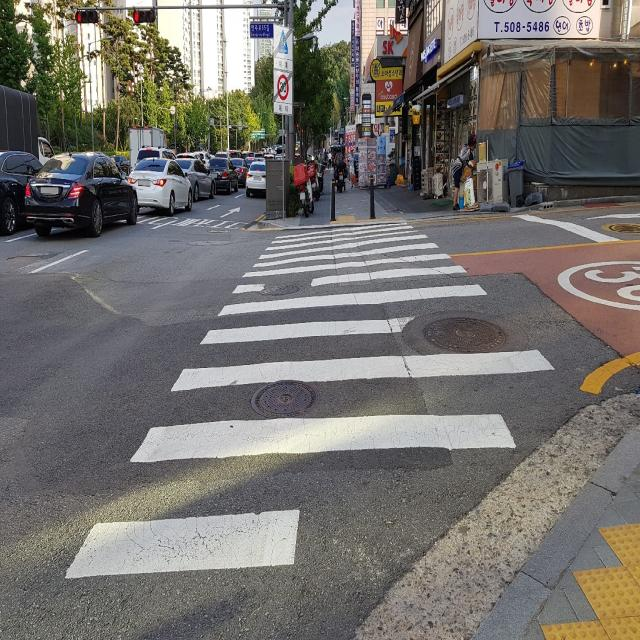횡단보도: (64, 219, 557, 582)
